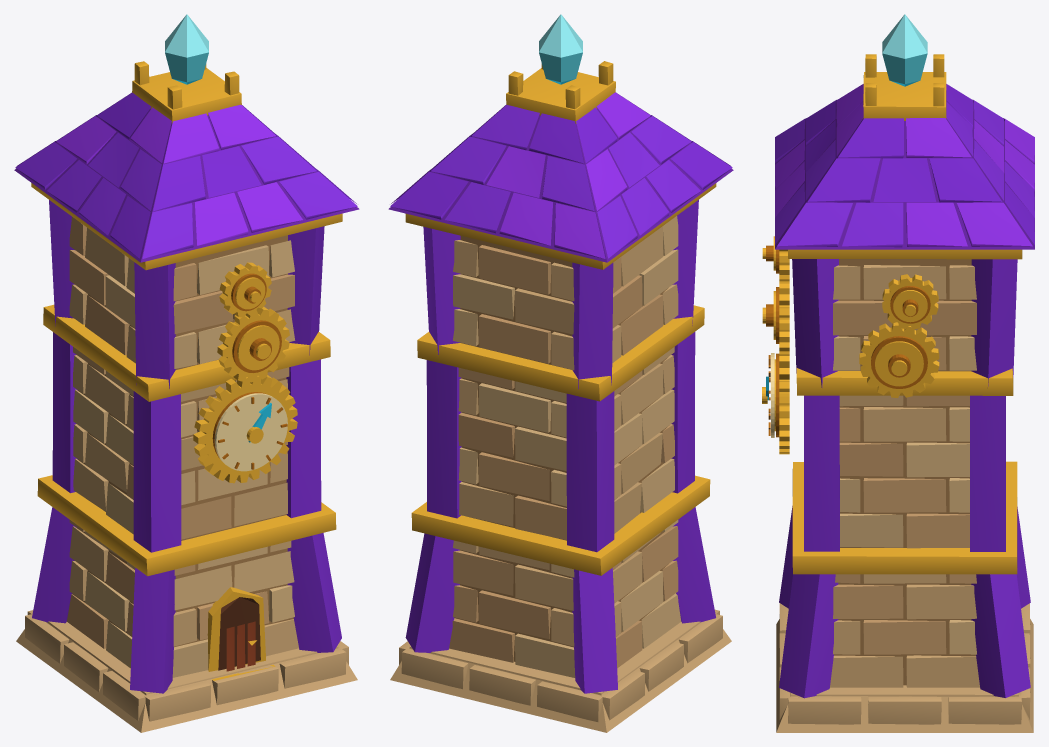
Rendered from torre-numeros-concept-v04.glb.
3 renders of one model, left to right at view 1: azimuth 30°, elevation 25°; view 2: azimuth 150°, elevation 25°; view 3: azimuth 270°, elevation 25°, orthographic. The views are drawn at different scales.
Parts seen in each view (by area): view 1: Arquitetura_Fechada, Engrenagem_Frente_03_Relogio_Malha, Engrenagem_Frente_02_Malha, Cristal_Facetado, Engrenagem_Frente_01_Malha; view 2: Arquitetura_Fechada, Cristal_Facetado; view 3: Arquitetura_Fechada, Engrenagem_Lateral_02_Malha, Engrenagem_Lateral_01_Malha, Cristal_Facetado, Engrenagem_Frente_03_Relogio_Malha, Engrenagem_Frente_02_Malha, Engrenagem_Frente_01_Malha.
Boxes of the visible parts, x1=… form: Arquitetura_Fechada: x1=14, y1=61, x2=359, y2=732; Engrenagem_Frente_03_Relogio_Malha: x1=193, y1=375, x2=297, y2=483; Engrenagem_Frente_02_Malha: x1=217, y1=307, x2=289, y2=382; Cristal_Facetado: x1=165, y1=14, x2=208, y2=84; Engrenagem_Frente_01_Malha: x1=219, y1=262, x2=271, y2=317; Arquitetura_Fechada: x1=388, y1=61, x2=733, y2=732; Cristal_Facetado: x1=539, y1=14, x2=582, y2=84; Arquitetura_Fechada: x1=775, y1=54, x2=1034, y2=732; Engrenagem_Lateral_02_Malha: x1=859, y1=322, x2=939, y2=397; Engrenagem_Lateral_01_Malha: x1=882, y1=274, x2=938, y2=329; Cristal_Facetado: x1=882, y1=14, x2=927, y2=86; Engrenagem_Frente_03_Relogio_Malha: x1=768, y1=353, x2=789, y2=454; Engrenagem_Frente_02_Malha: x1=762, y1=281, x2=789, y2=355; Engrenagem_Frente_01_Malha: x1=762, y1=236, x2=789, y2=281.
Size of the model in its own units: 1.86 by 5 by 1.86.
Materials: 1 (1 with a texture image).
